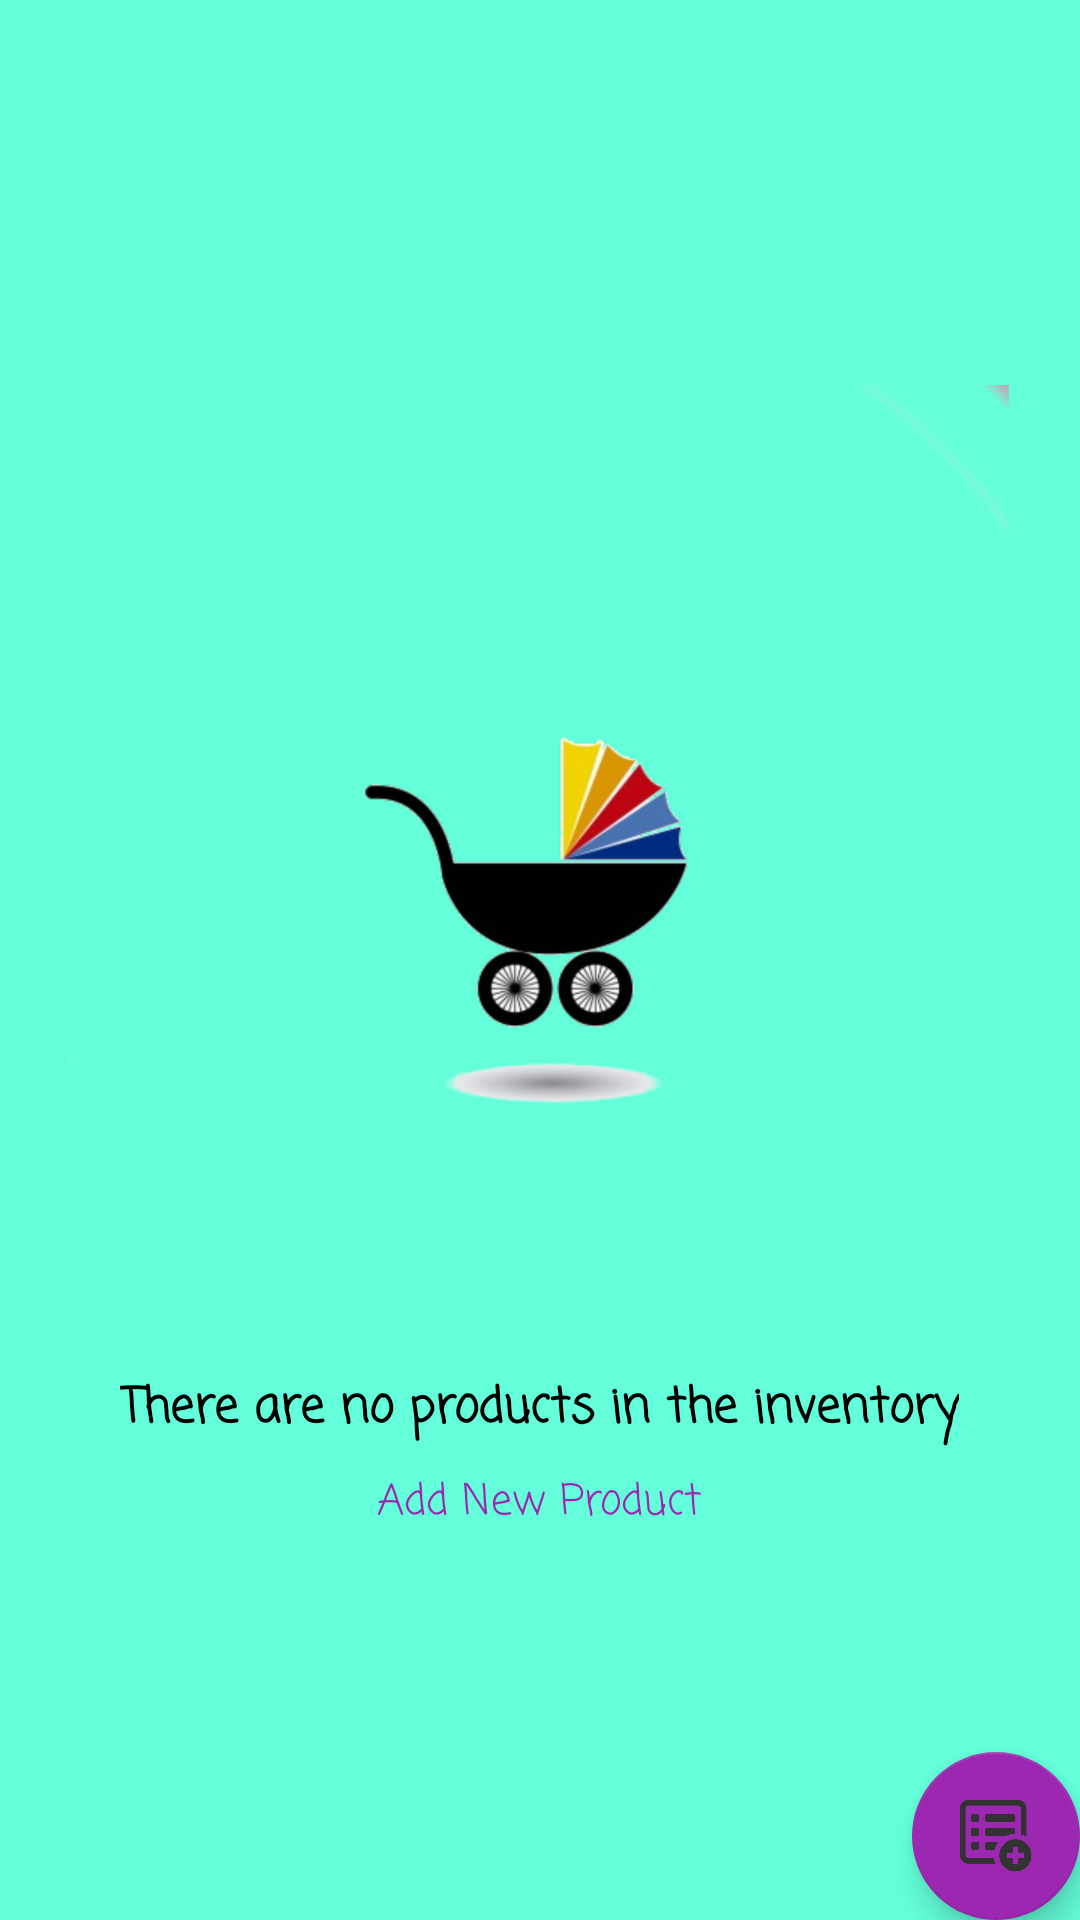

Icon bounding boxes for this 1080 × 1920 phone screenshot, format (x1, y1, x2, y2):
Add New Product: (912, 1752, 1080, 1920)
